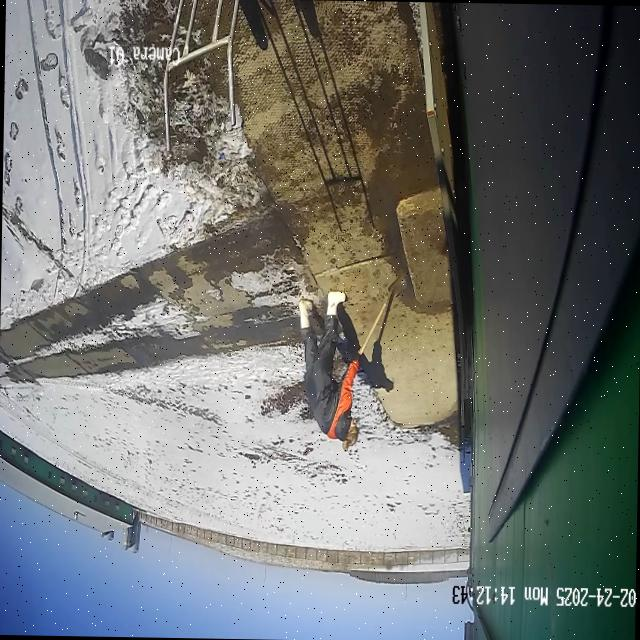Red uniform: (294, 288, 364, 447)
